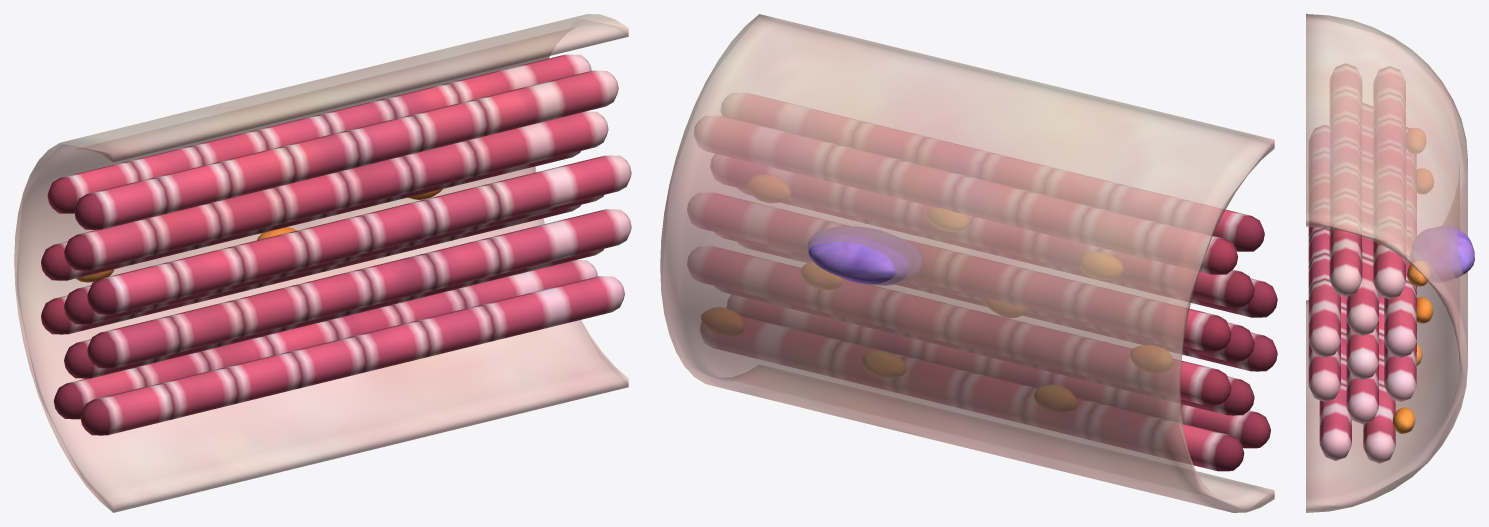
The model's file is muscle-fibre-bundle.glb.
3 views of the same model, side by side, from view 1: azimuth 30°, elevation 25°; view 2: azimuth 150°, elevation 25°; view 3: azimuth 270°, elevation 25° (orthographic). The views are drawn at different scales.
Parts seen in each view (by area): view 1: muscle-fibre-bundle-myofibrils, muscle-fibre-bundle-sarcolemma; view 2: muscle-fibre-bundle-sarcolemma, muscle-fibre-bundle-myofibrils, muscle-fibre-bundle-mitochondria, muscle-fibre-bundle-nucleus; view 3: muscle-fibre-bundle-sarcolemma, muscle-fibre-bundle-myofibrils, muscle-fibre-bundle-nucleus, muscle-fibre-bundle-mitochondria.
Boxes of the visible parts, <box> form: muscle-fibre-bundle-myofibrils: <box>41,54,631,435</box>; muscle-fibre-bundle-sarcolemma: <box>14,14,628,512</box>; muscle-fibre-bundle-sarcolemma: <box>660,14,1274,512</box>; muscle-fibre-bundle-myofibrils: <box>687,93,1277,471</box>; muscle-fibre-bundle-mitochondria: <box>701,174,1172,413</box>; muscle-fibre-bundle-nucleus: <box>807,226,922,285</box>; muscle-fibre-bundle-sarcolemma: <box>1306,14,1467,512</box>; muscle-fibre-bundle-myofibrils: <box>1308,63,1416,463</box>; muscle-fibre-bundle-nucleus: <box>1410,226,1474,282</box>; muscle-fibre-bundle-mitochondria: <box>1392,128,1433,433</box>.
Size of what is drawn, in the model's own units: 3.14 by 2 by 1.04.
